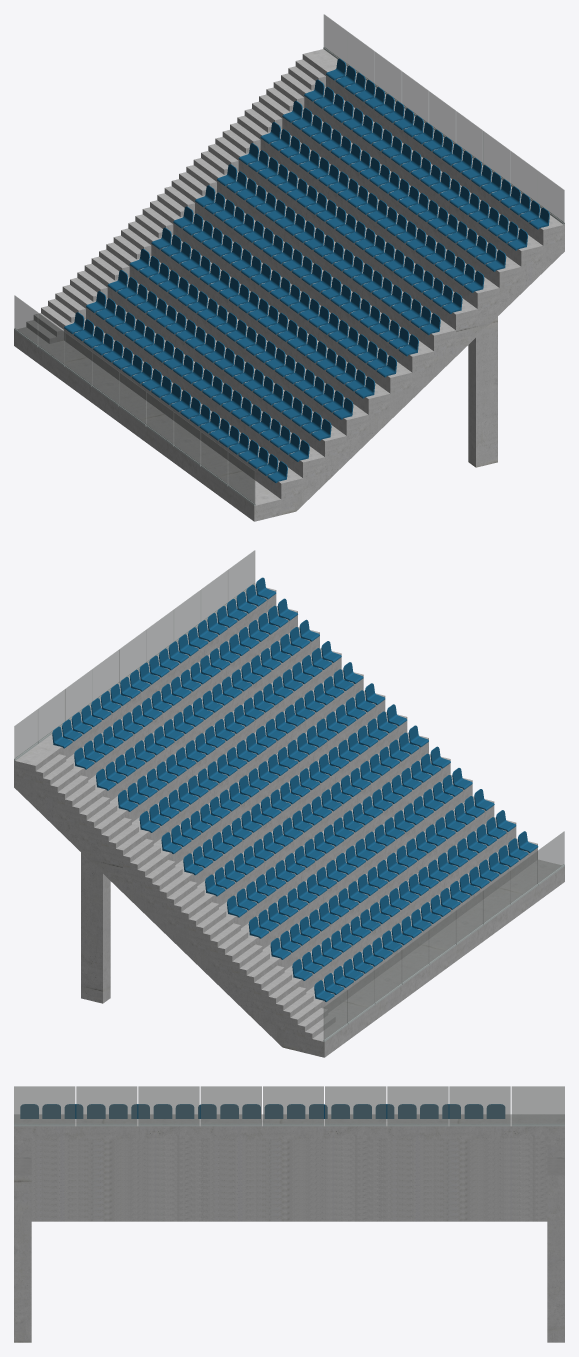
Rendered from Free_Grandstand.fbx.
3 renders of one model, top to bottom at view 1: azimuth 30°, elevation 25°; view 2: azimuth 150°, elevation 25°; view 3: azimuth 270°, elevation 25°, orthographic. The views are drawn at different scales.
Parts seen in each view (by area): view 1: Concrete - Painted Concrete, Paint - Sand Beige, Glass - Clear Fast, Metal - Construction; view 2: Concrete - Painted Concrete, Paint - Sand Beige, Glass - Clear Fast, Metal - Construction; view 3: Concrete - Painted Concrete, Glass - Clear Fast, Paint - Sand Beige, Metal - Construction.
Boxes of the visible parts, <box> form: Concrete - Painted Concrete: <box>14,49,564,521</box>; Paint - Sand Beige: <box>64,58,549,482</box>; Glass - Clear Fast: <box>14,14,564,504</box>; Metal - Construction: <box>14,47,564,505</box>; Concrete - Painted Concrete: <box>14,585,564,1057</box>; Paint - Sand Beige: <box>52,577,538,1001</box>; Glass - Clear Fast: <box>14,550,564,1039</box>; Metal - Construction: <box>14,583,564,1041</box>; Concrete - Painted Concrete: <box>14,1114,564,1342</box>; Glass - Clear Fast: <box>14,1086,564,1124</box>; Paint - Sand Beige: <box>20,1104,504,1118</box>; Metal - Construction: <box>14,1124,564,1126</box>.
Size of the model in its own units: 9.25 by 7.28 by 12.4.
4 materials, 2 textured.
